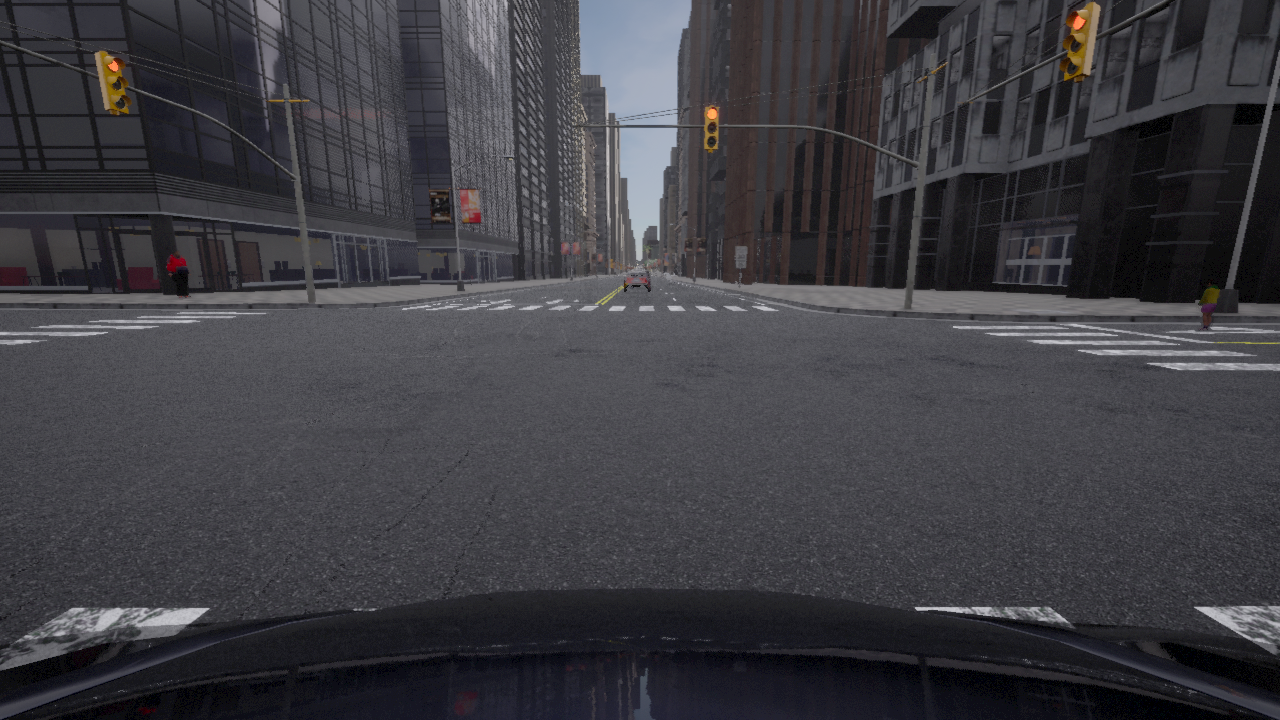cyclist: (0, 588, 1279, 719), (623, 269, 652, 292), (658, 271, 676, 283)
pedestrian: (167, 250, 190, 298), (1197, 278, 1218, 330)
